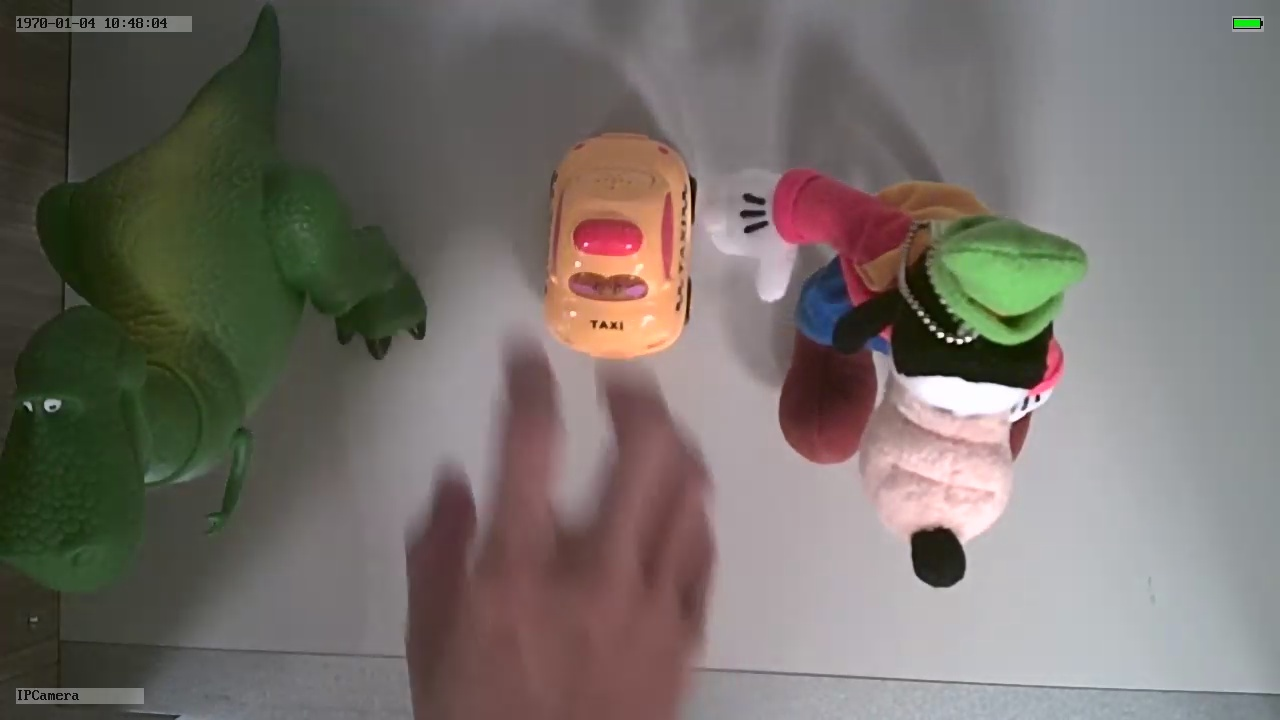car: (545, 127, 698, 363)
goofy: (698, 168, 1086, 601)
rex: (1, 103, 427, 595)
